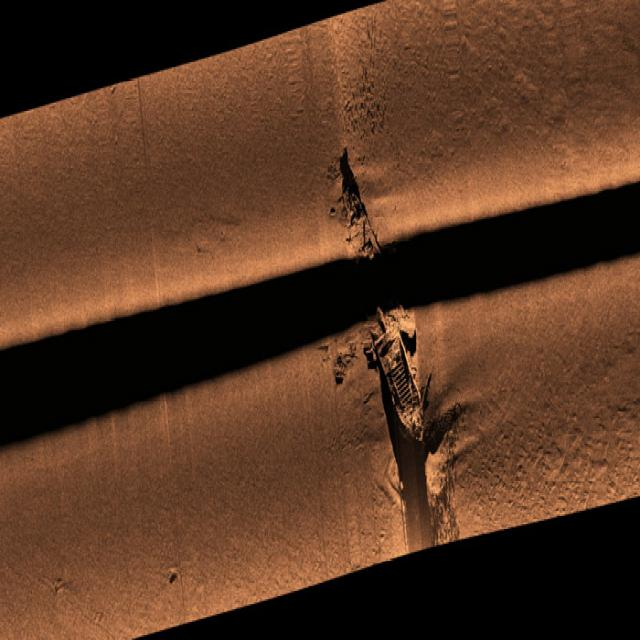ship: (336, 155, 445, 467)
